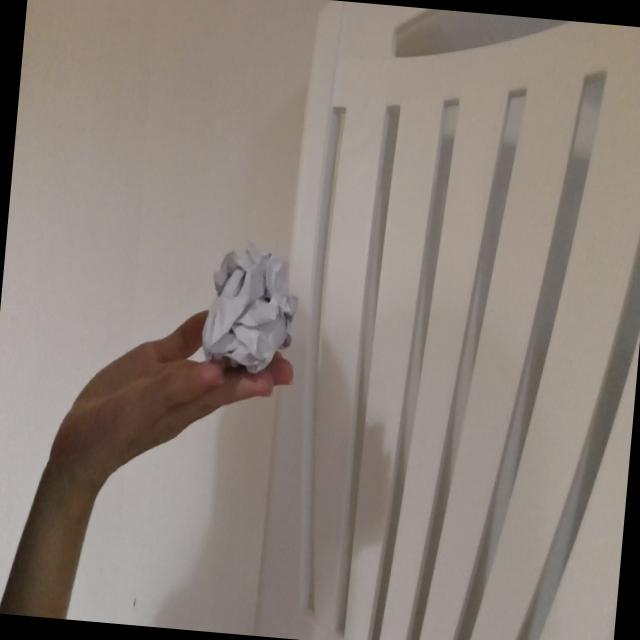crumpled_paper: (197, 234, 306, 380)
